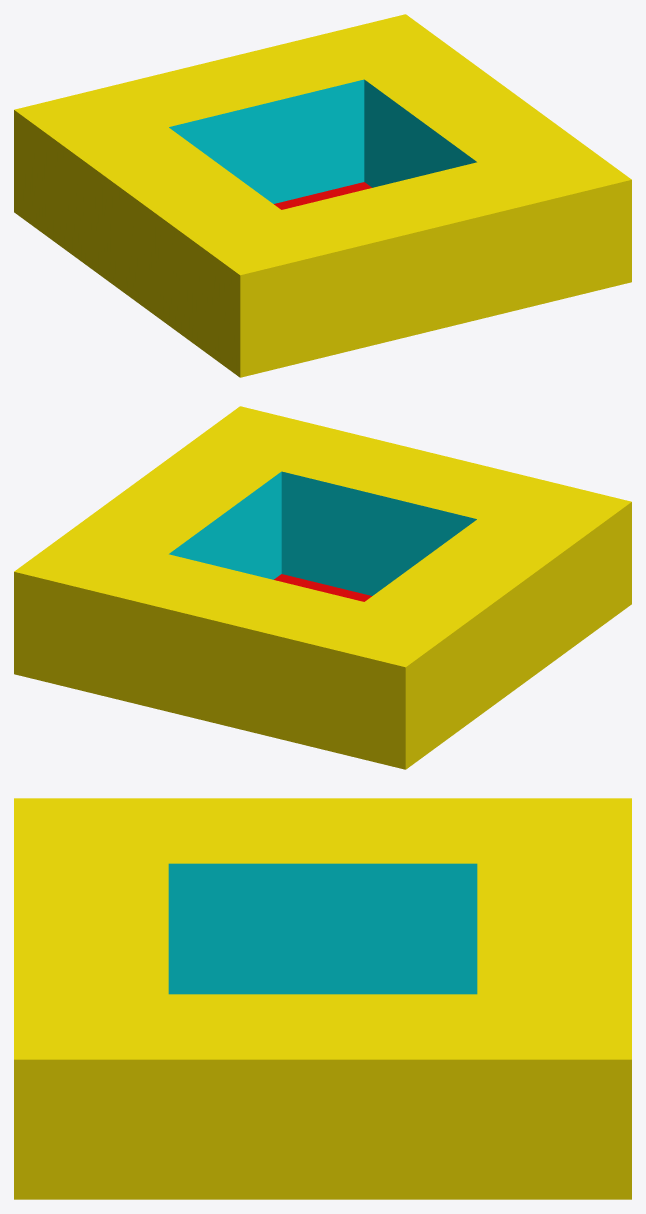
File: test_hole.FBX
3 renders of one model, top to bottom at view 1: azimuth 30°, elevation 25°; view 2: azimuth 150°, elevation 25°; view 3: azimuth 270°, elevation 25°, orthographic. The views are drawn at different scales.
Parts seen in each view (by area): view 1: Plane001; view 2: Plane001; view 3: Plane001.
Part boxes in pixels (box(x1,y1,x2,y2)): Plane001: box(14, 14, 631, 377); Plane001: box(14, 406, 631, 769); Plane001: box(14, 798, 631, 1199).
Bounding box in the file's own units: 100 × 25 × 100.
